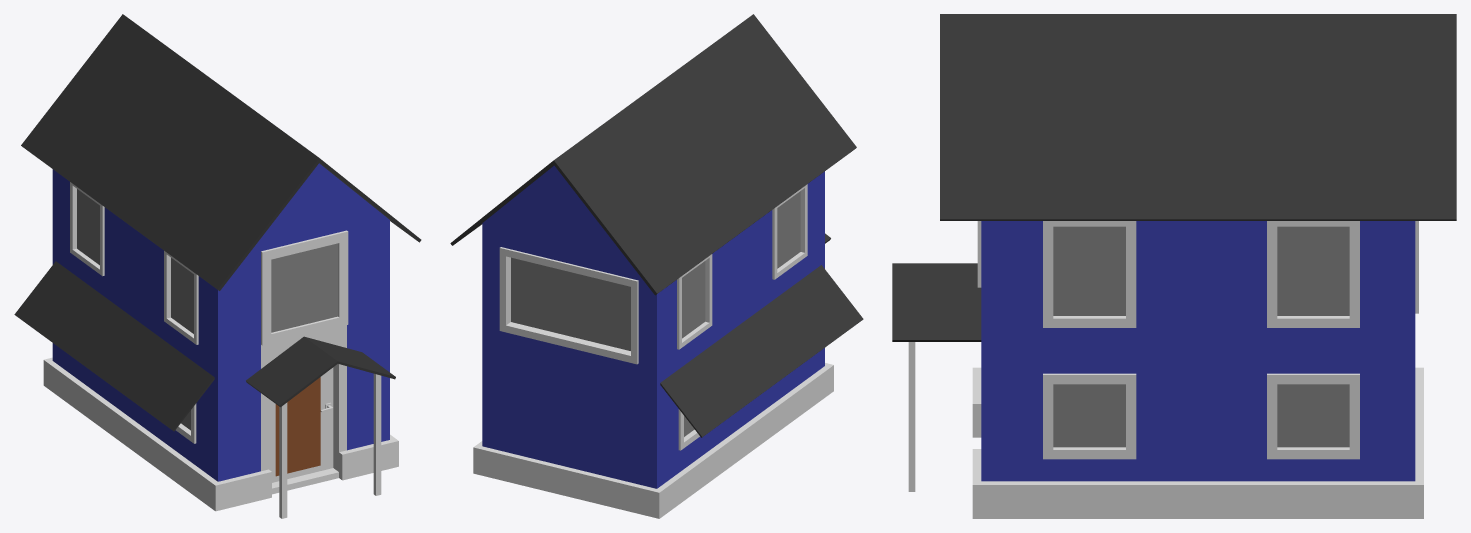
File: house2_2.fbx
The picture shows the model from 3 angles, left to right: view 1: azimuth 30°, elevation 25°; view 2: azimuth 150°, elevation 25°; view 3: azimuth 270°, elevation 25°; orthographic projection. The views are drawn at different scales.
Visible parts, largest first — view 1: House2.1; view 2: House2.1; view 3: House2.1.
Boxes of the visible parts, <box> form: House2.1: <box>14,14,421,518</box>; House2.1: <box>450,14,863,518</box>; House2.1: <box>892,14,1456,518</box>.
Bounding box in the file's own units: 400 × 567 × 650.
